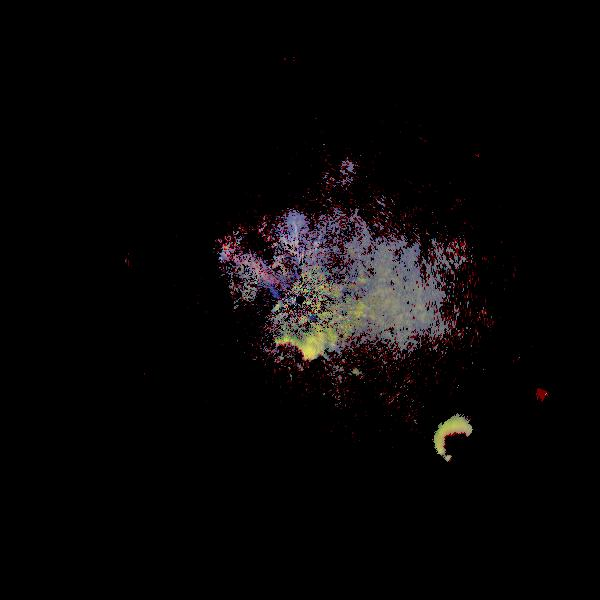roost: (427, 411, 499, 483), (254, 331, 320, 397), (280, 335, 340, 395)
